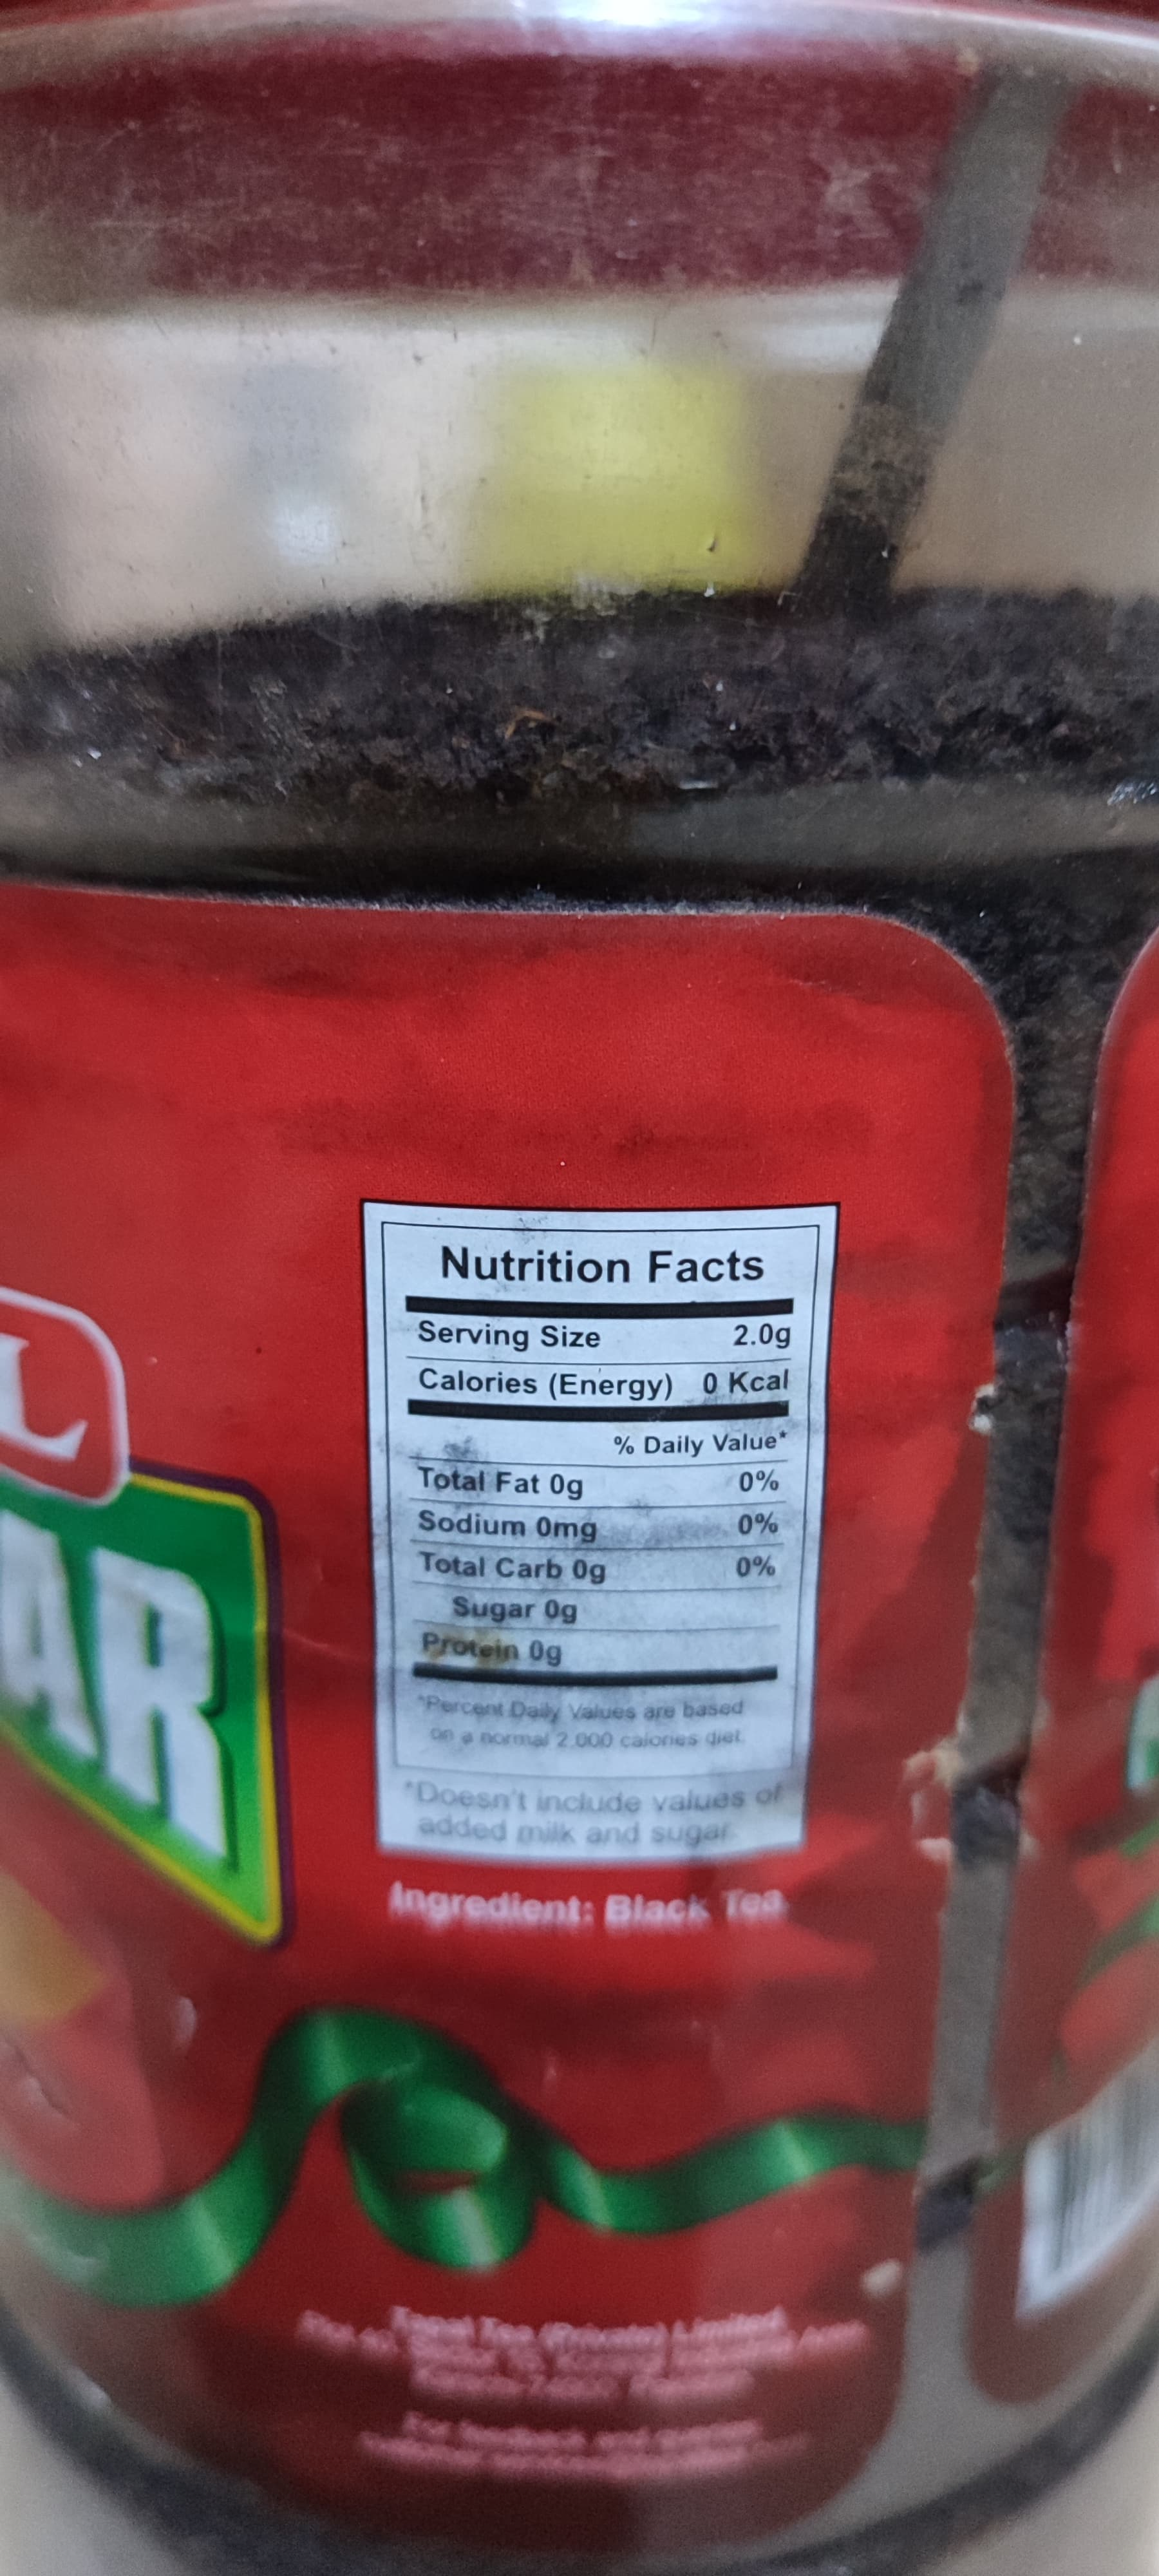table: (348, 1188, 822, 1850)
